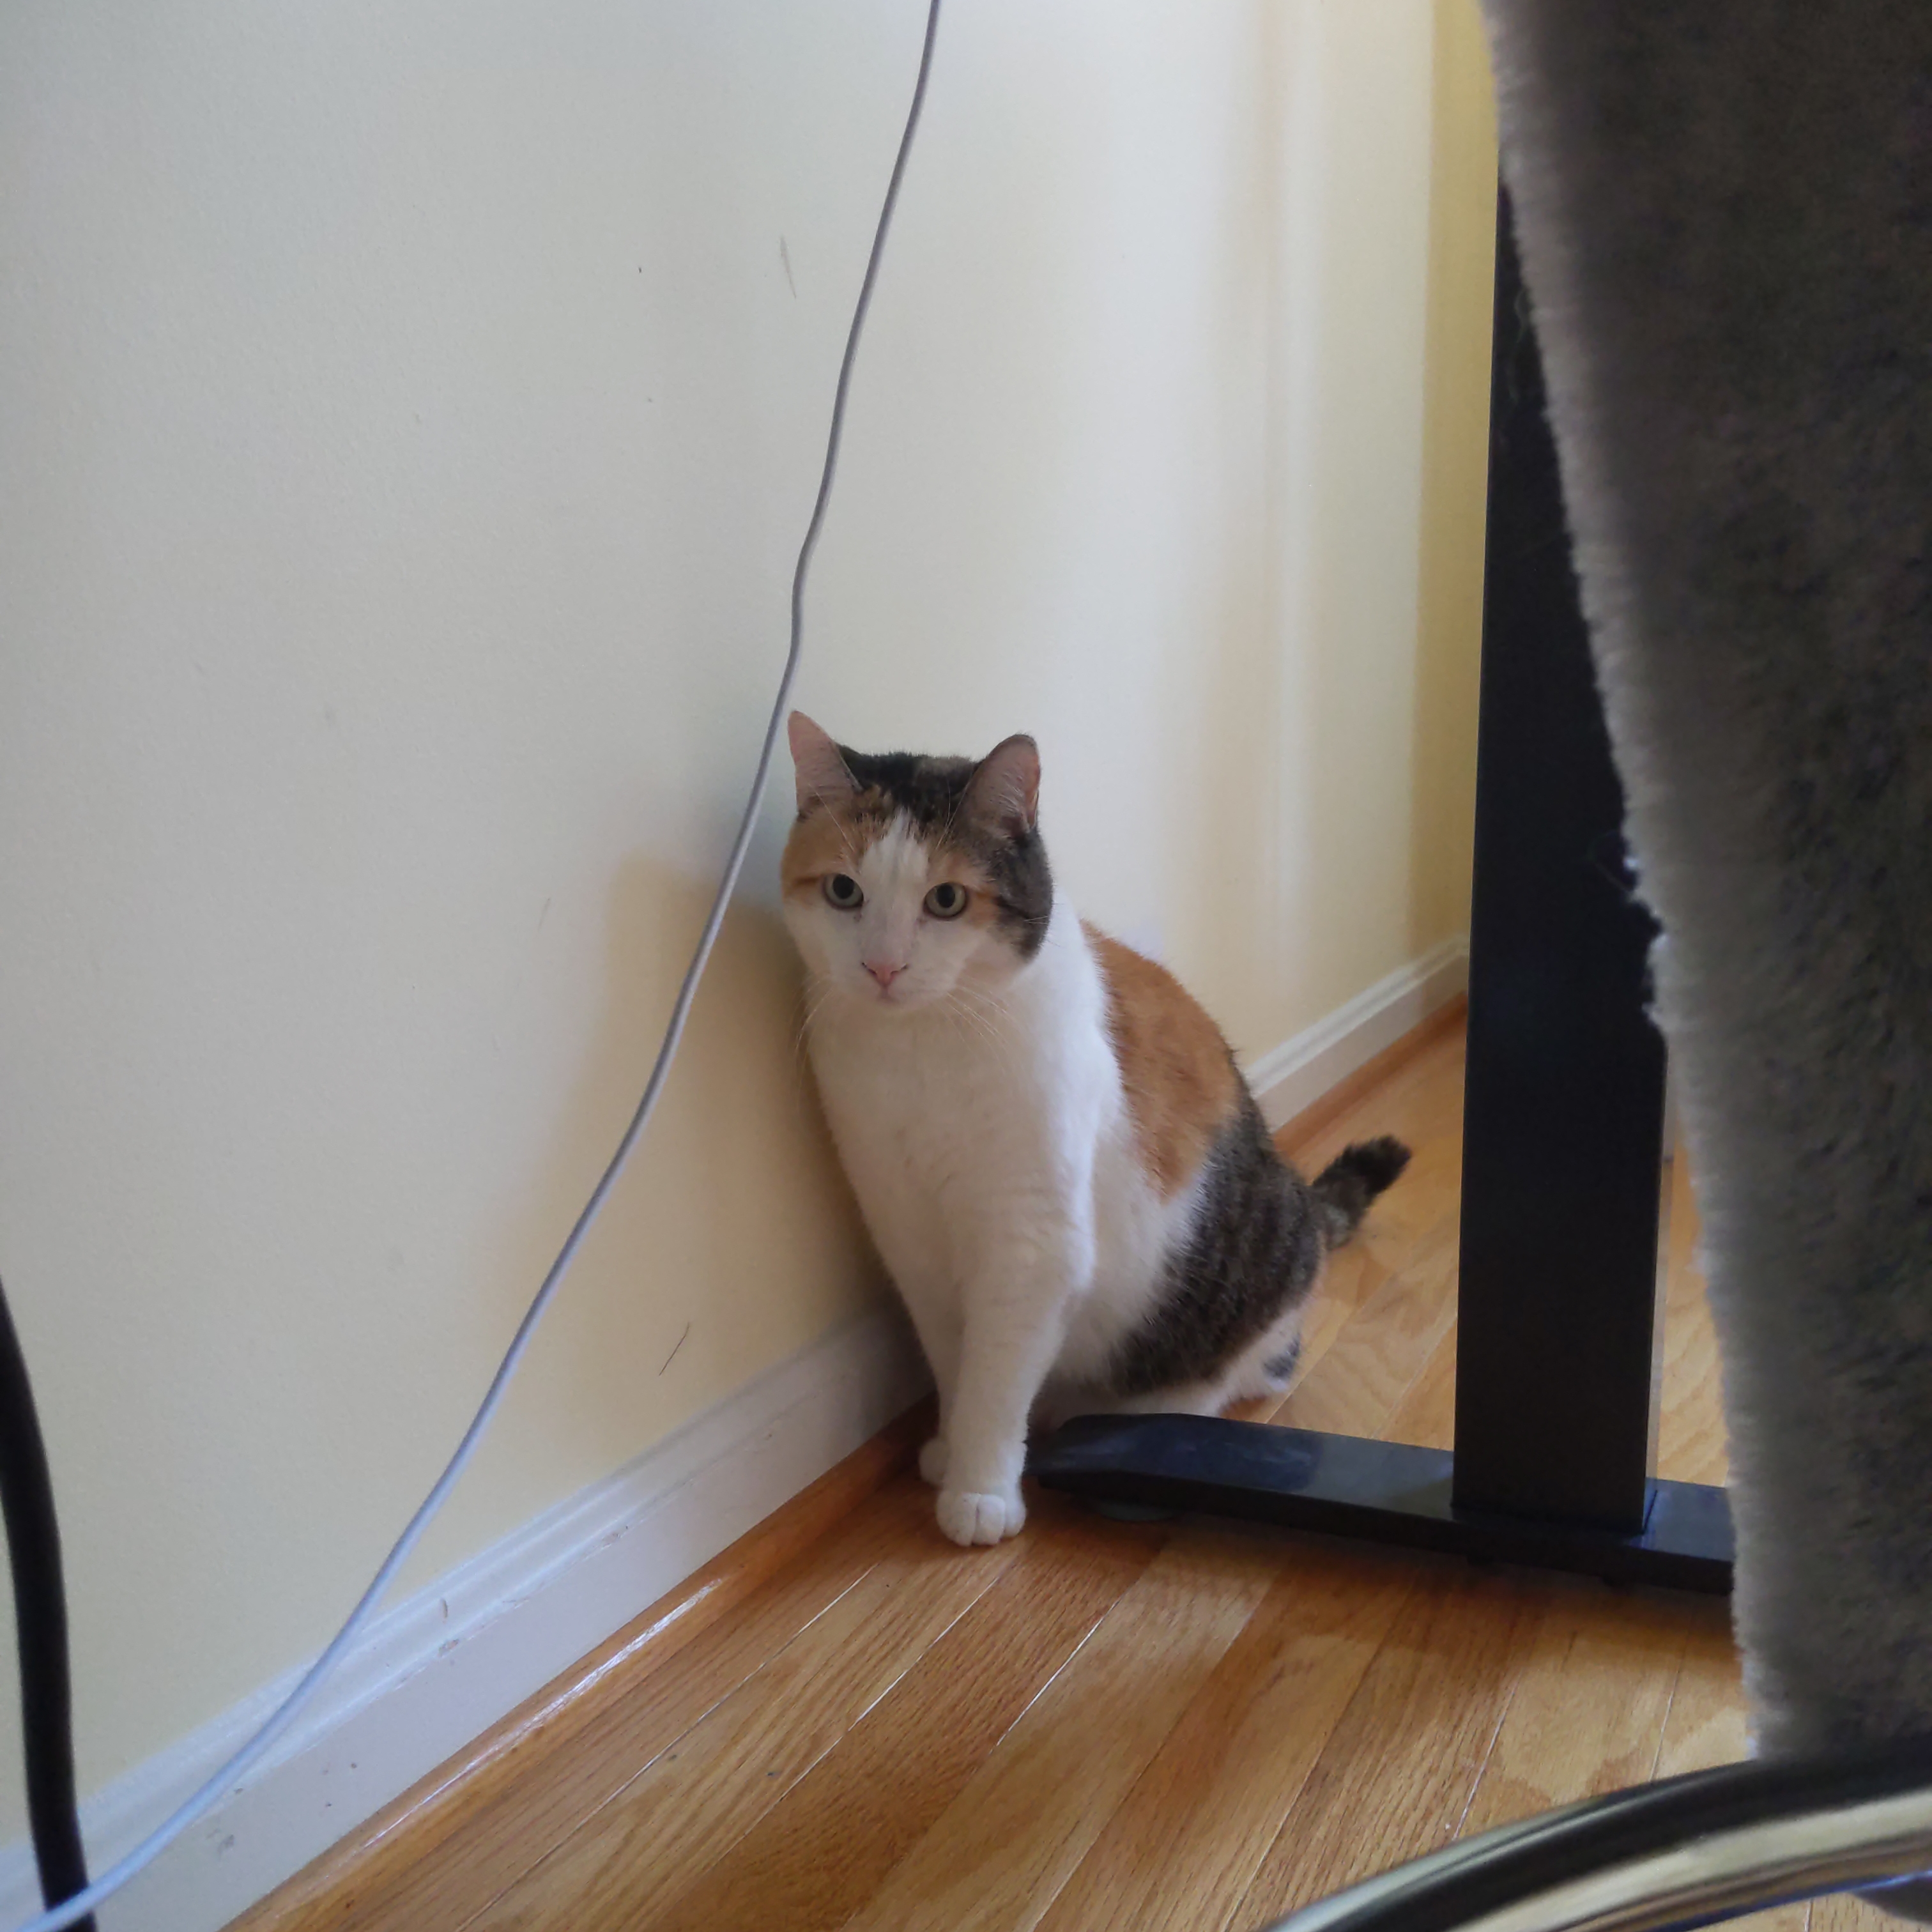Calico: (780, 711, 1412, 1548)
